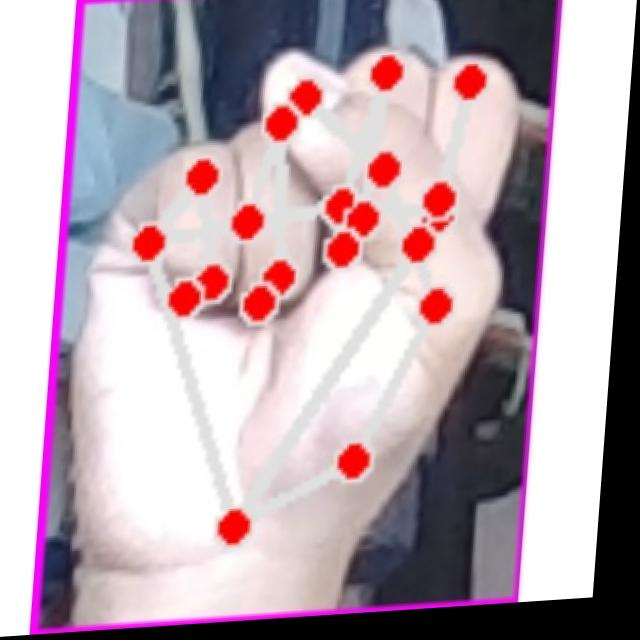S: (64, 14, 548, 587)
